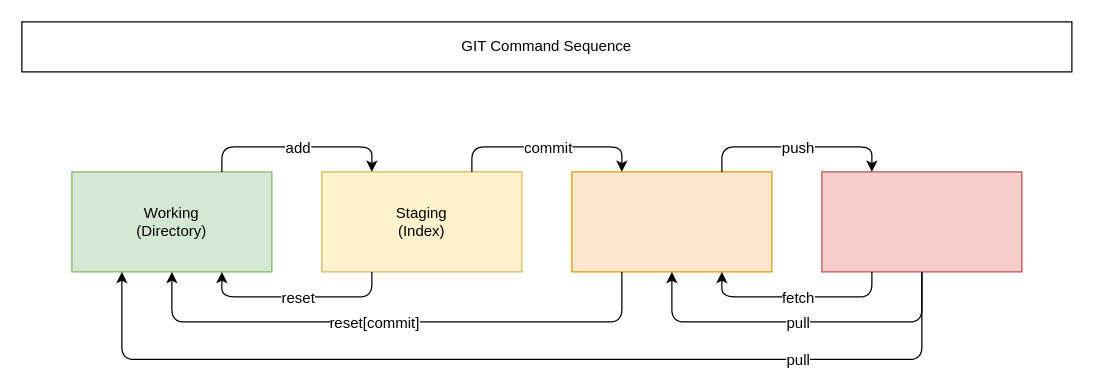
Image size: 1094x391. Some labels were removed from this diagram. Each missing label, with the box of its shape:
Local (Repository): (571, 171, 772, 272)
Remote (Repository): (821, 171, 1022, 272)
